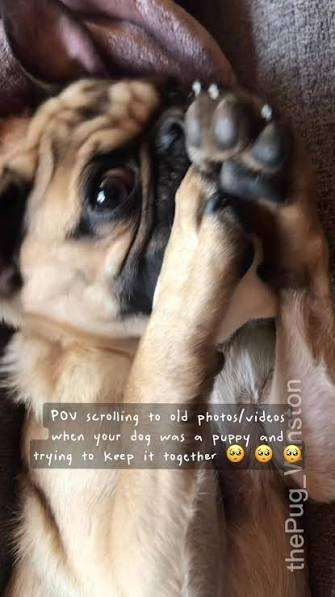puppy-dog: (0, 78, 335, 597)
